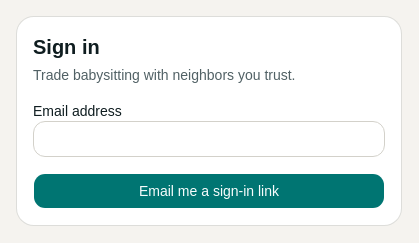
SignInPage › asks for a link and always answers that one was sent if the address is a Member
This screenshot has width=419, height=243.
Step 1. Type "ada@example.com" into the field labelled "Email address" → (209, 139), box [33,121,385,157]
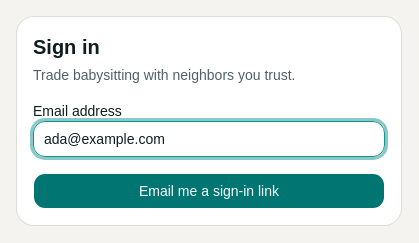
Step 2. Click the button "Email me a sign-in link" → (209, 191), box [33,173,385,209]
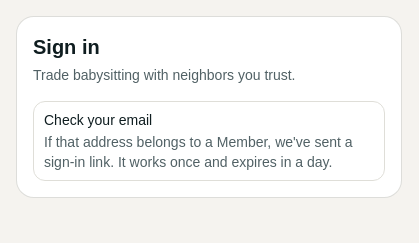
Expected: the text "If that address belongs to a Member" is shown, [44,134,352,170]
